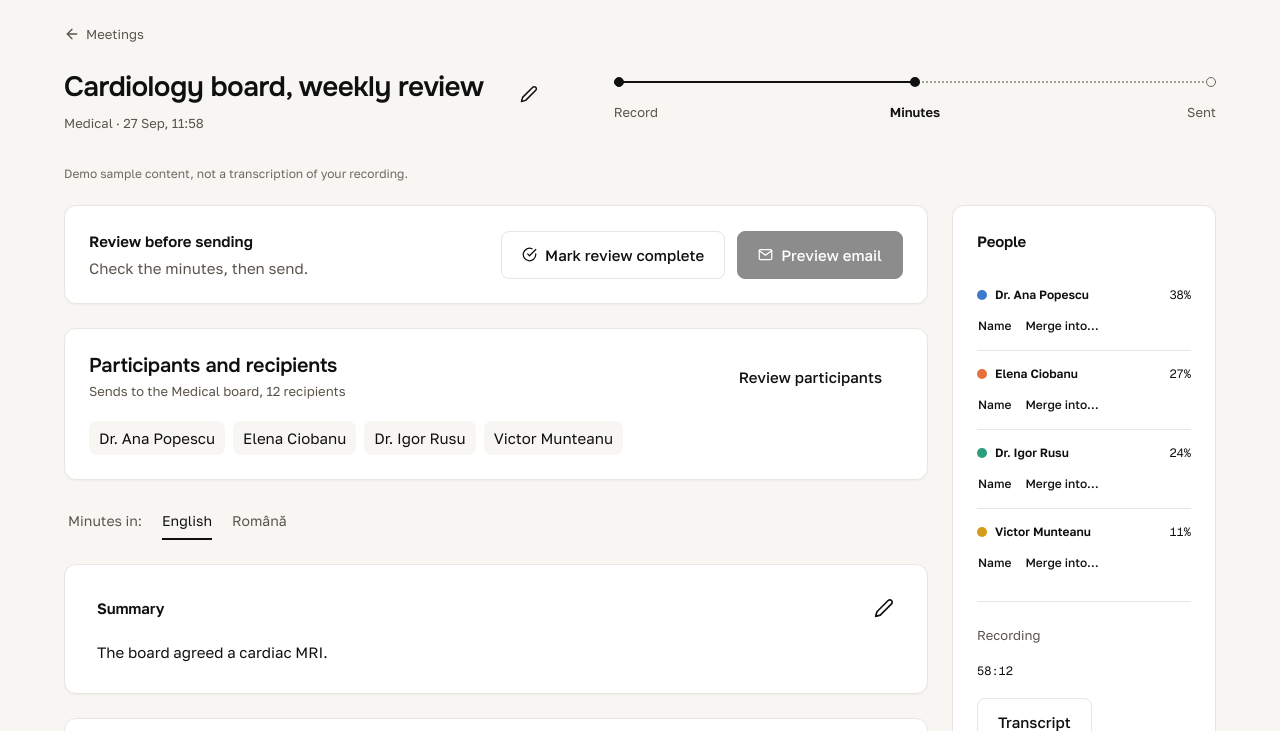
real pipeline screens › switches the minutes language and links each language's PDF and DOCX
Expected: the text "The board agreed a cardiac MRI." is shown, [97,643,328,661]
Click the button "Română" at {"x": 259, "y": 522}, box [232,504,287,540]
(page scrolled)
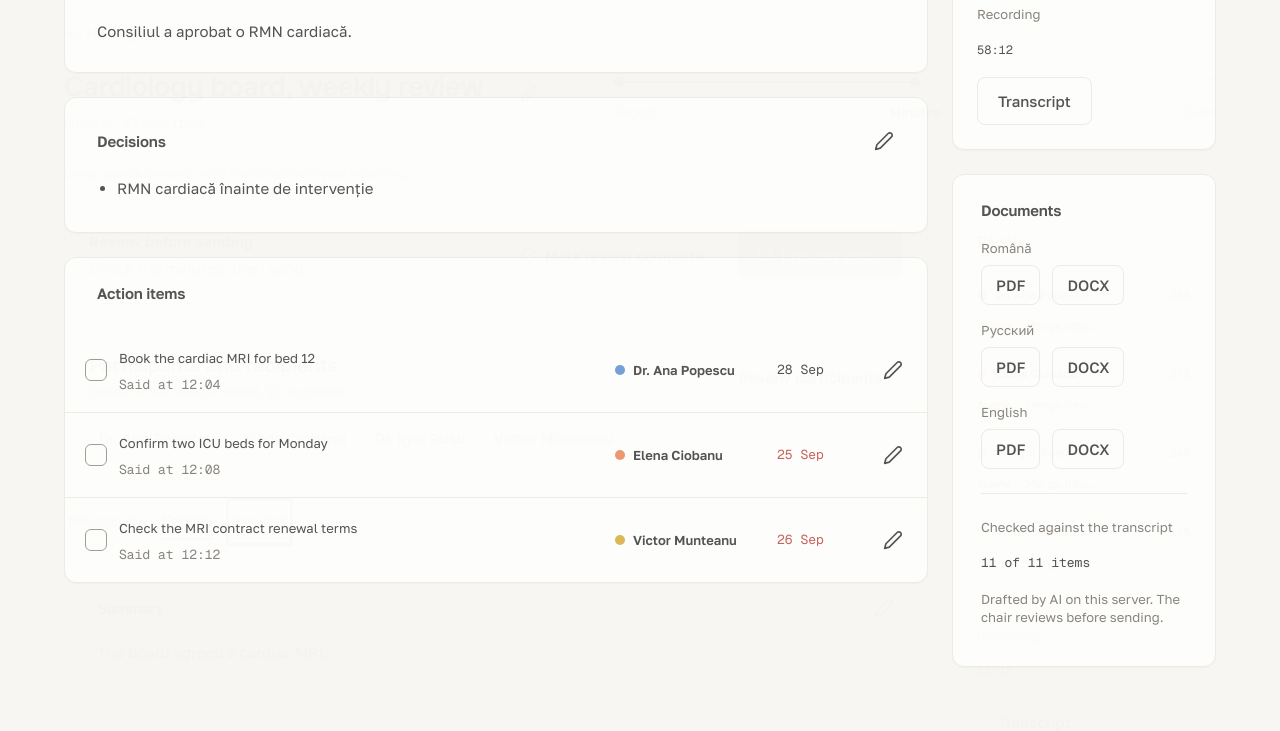
Expected: the text "11 of 11 items" is shown, [981,554,1090,571]
Expected: the text "Consiliul a aprobat o RMN cardiacă." is shown, [97,22,352,40]
